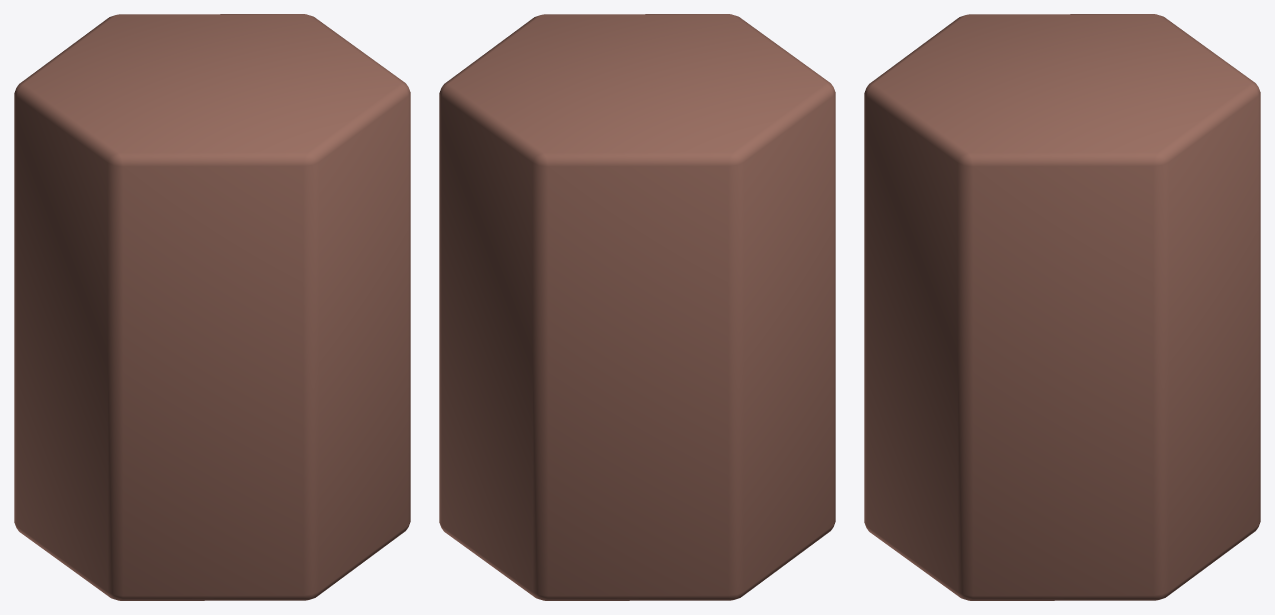
Rendered from brownTile.fbx.
3 views of the same model, side by side, from view 1: azimuth 30°, elevation 25°; view 2: azimuth 150°, elevation 25°; view 3: azimuth 270°, elevation 25° (orthographic).
Parts seen in each view (by area): view 1: groundUnderneath; view 2: groundUnderneath; view 3: groundUnderneath.
Part boxes in pixels (box(x1,y1,x2,y2)): groundUnderneath: box(14, 14, 410, 600); groundUnderneath: box(439, 14, 835, 600); groundUnderneath: box(864, 14, 1260, 600).
Size of the model in its own units: 1.01 by 1.43 by 1.15.
